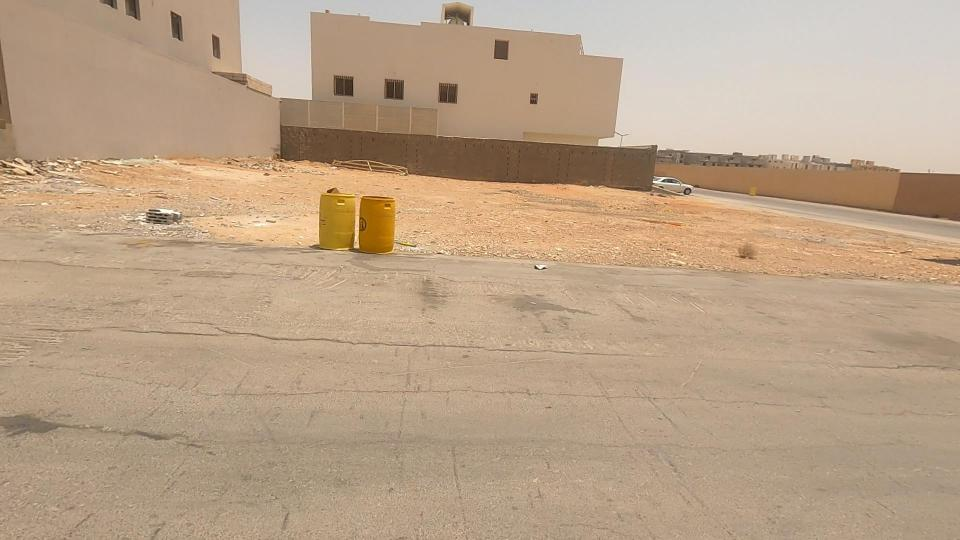GARBAGE: (0, 125, 127, 203), (297, 136, 445, 196)
